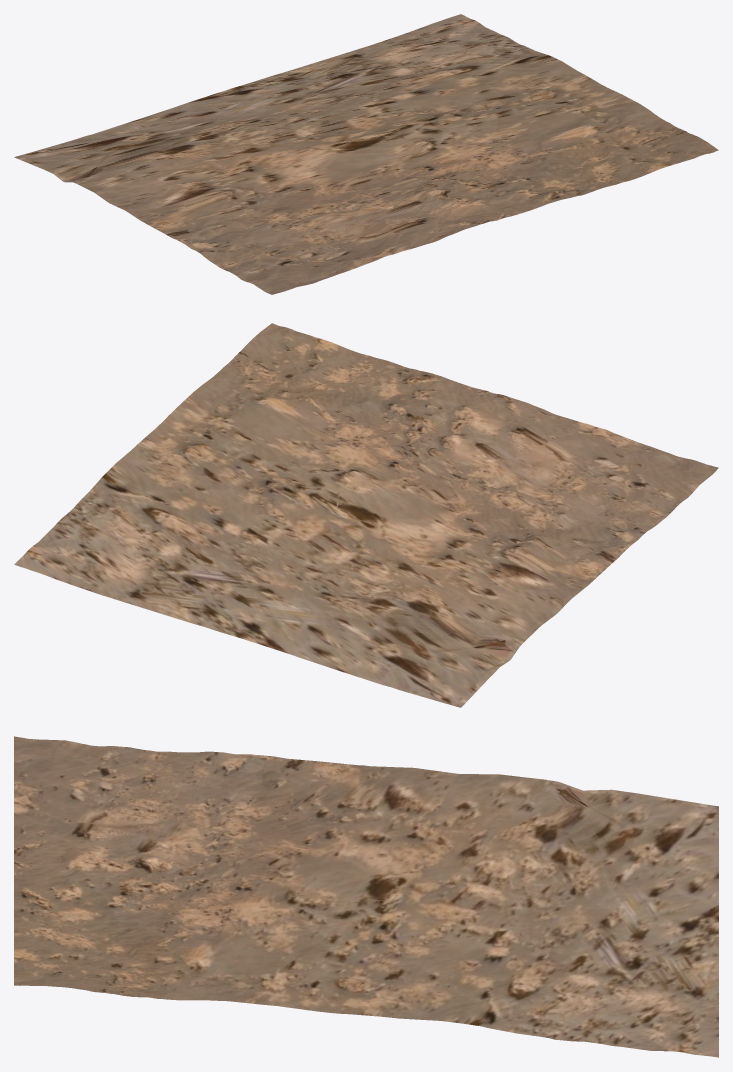
3 renders of one model, top to bottom at view 1: azimuth 30°, elevation 25°; view 2: azimuth 150°, elevation 25°; view 3: azimuth 270°, elevation 25°, orthographic. The views are drawn at different scales.
Size of the model in its own units: 8.36 by 1.55 by 8.36.
2 materials, 2 textured.
